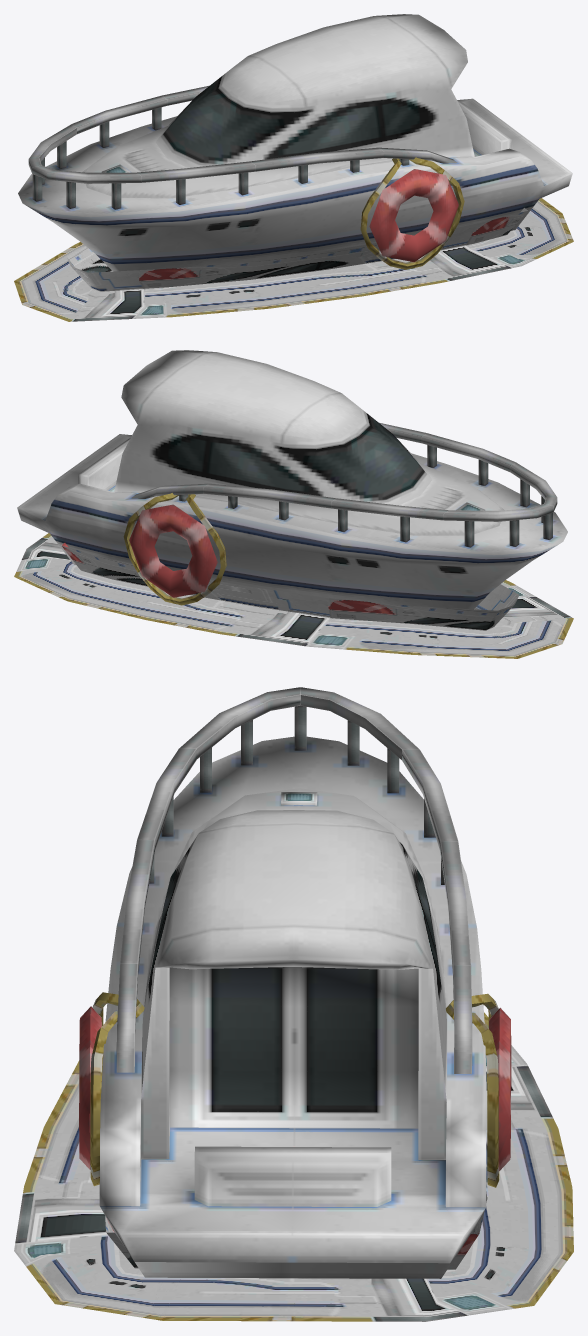
File: 0181_T_ZhenYin_YouTing.glb
3 renders of one model, top to bottom at view 1: azimuth 30°, elevation 25°; view 2: azimuth 150°, elevation 25°; view 3: azimuth 270°, elevation 25°, orthographic. The views are drawn at different scales.
Size of the model in its own units: 2.2 by 0.7578 by 1.26.
Materials: 1 (1 with a texture image).
